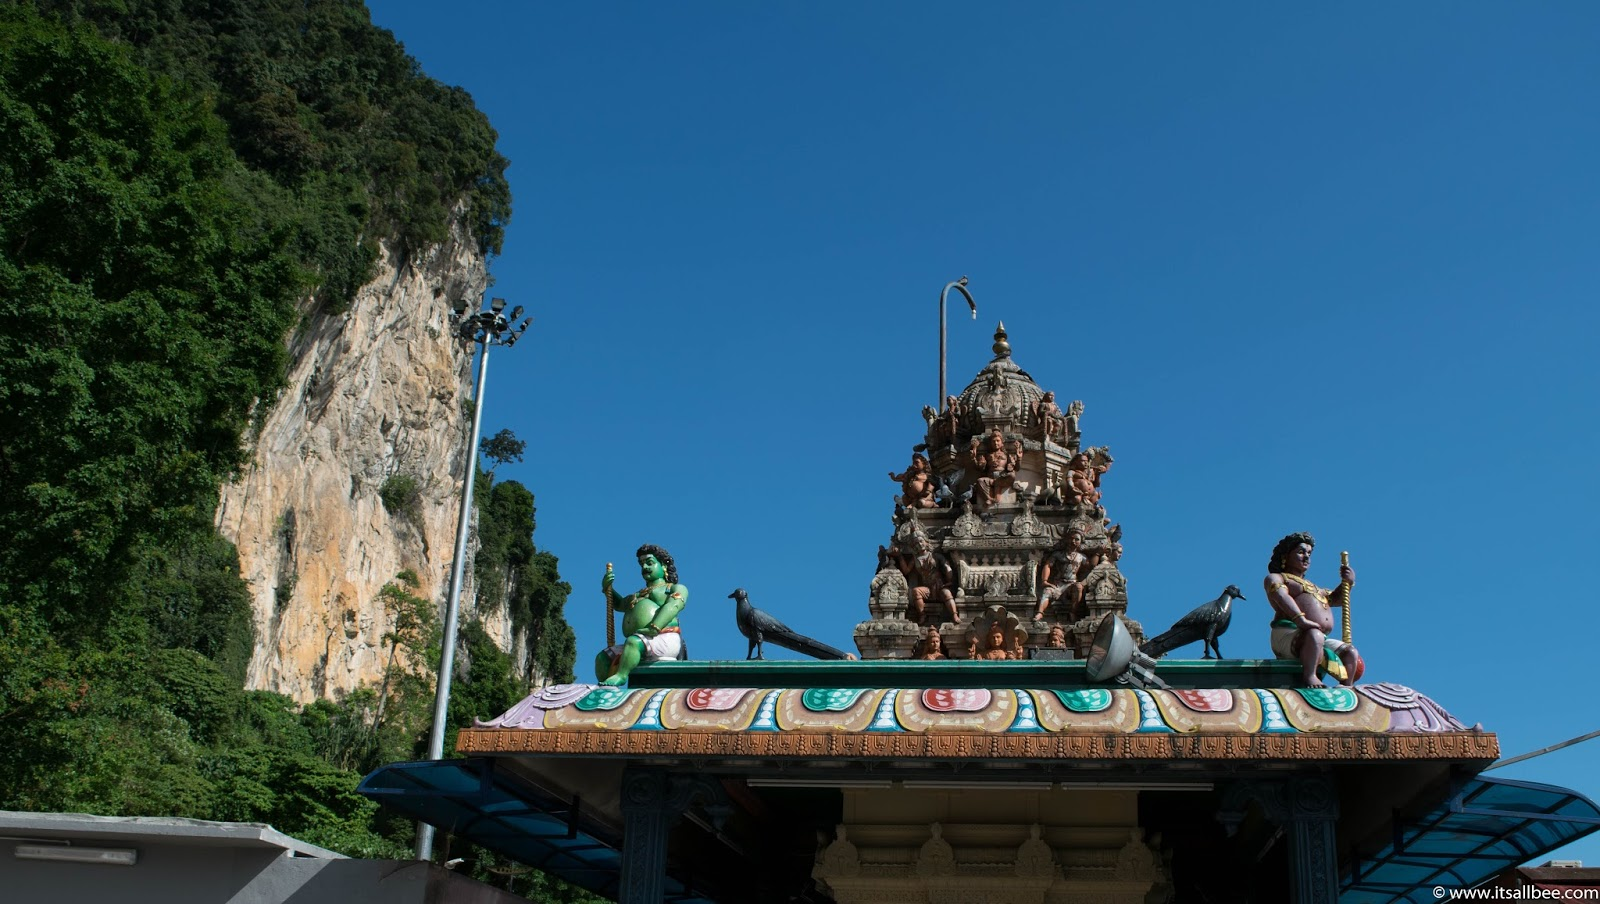Hindu Temple: (549, 303, 1434, 877)
